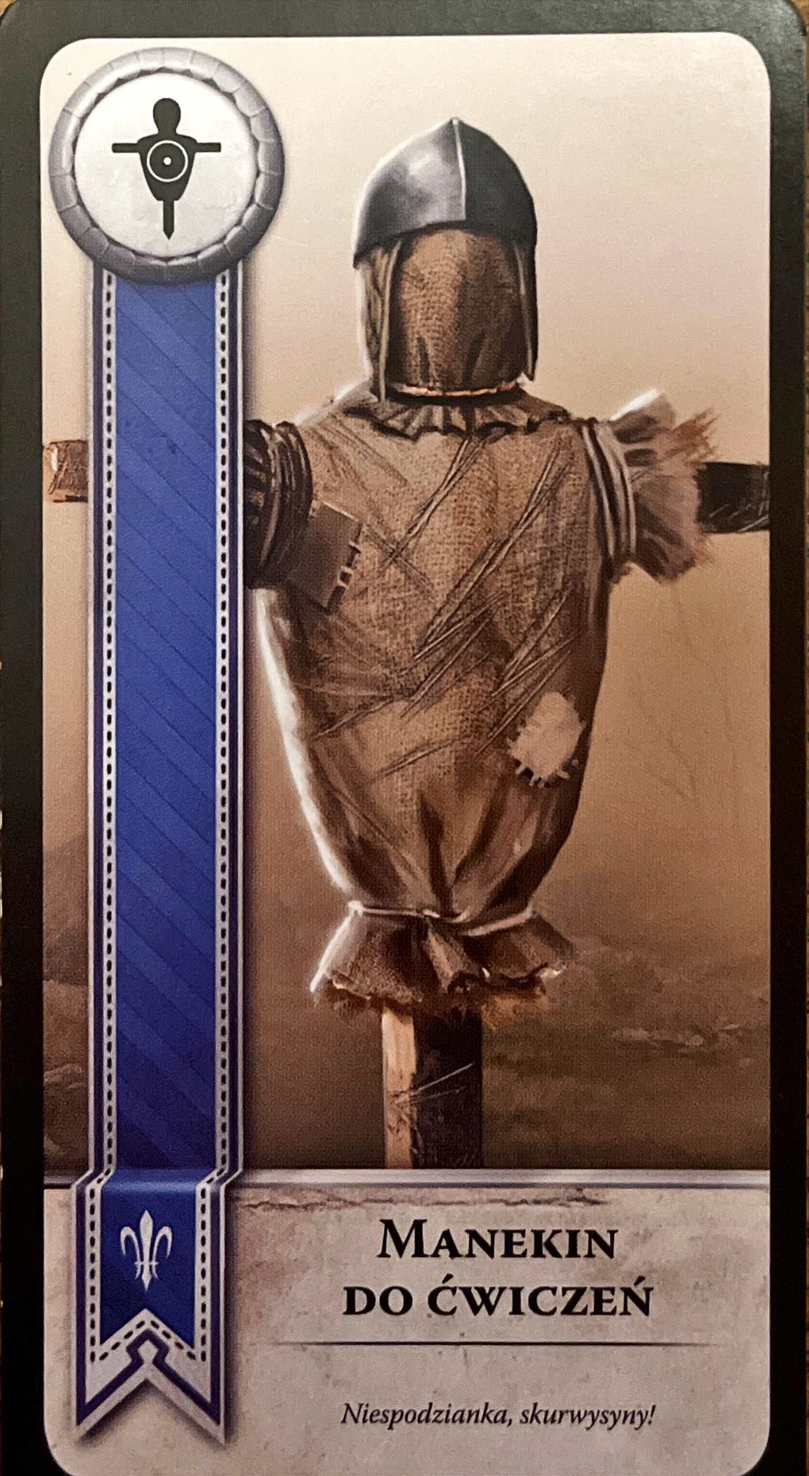manekin: (50, 47, 290, 286)
